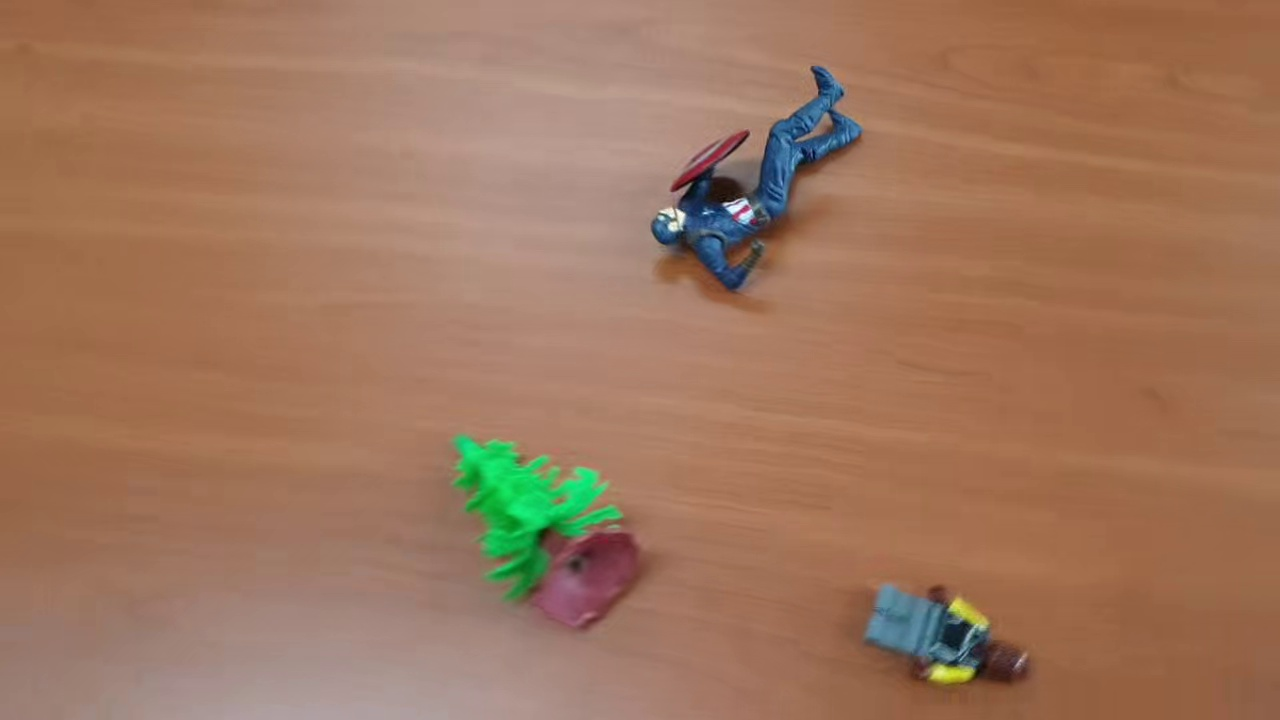people: (646, 61, 864, 293), (860, 576, 1034, 693)
tree: (444, 431, 648, 632)
